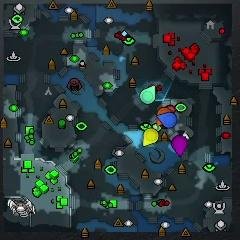p1: (157, 112, 177, 128)
p2: (140, 85, 156, 104)
p3: (171, 135, 187, 156)
p4: (143, 129, 159, 147)
p5: (157, 107, 172, 125)
